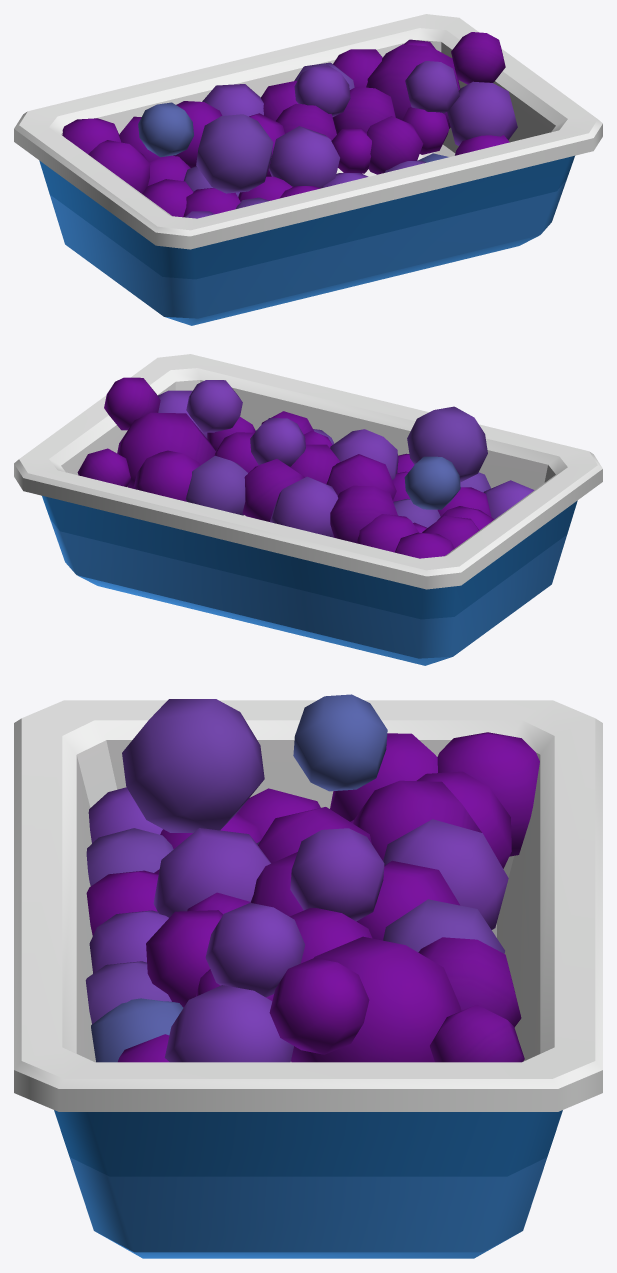
The model's file is BlueBerrys.glb.
3 views of the same model, one above another, from view 1: azimuth 30°, elevation 25°; view 2: azimuth 150°, elevation 25°; view 3: azimuth 270°, elevation 25° (orthographic). The views are drawn at different scales.
Visible parts, largest first — view 1: BlueBerrys; view 2: BlueBerrys; view 3: BlueBerrys.
Boxes of the visible parts, x1,y1,x2,y2 form: BlueBerrys: (14,14,602,325); BlueBerrys: (14,354,602,665); BlueBerrys: (14,694,602,1258).
Size of the model in its own units: 0.1413 by 0.0552 by 0.0914.
Materials: 1 (1 with a texture image).
